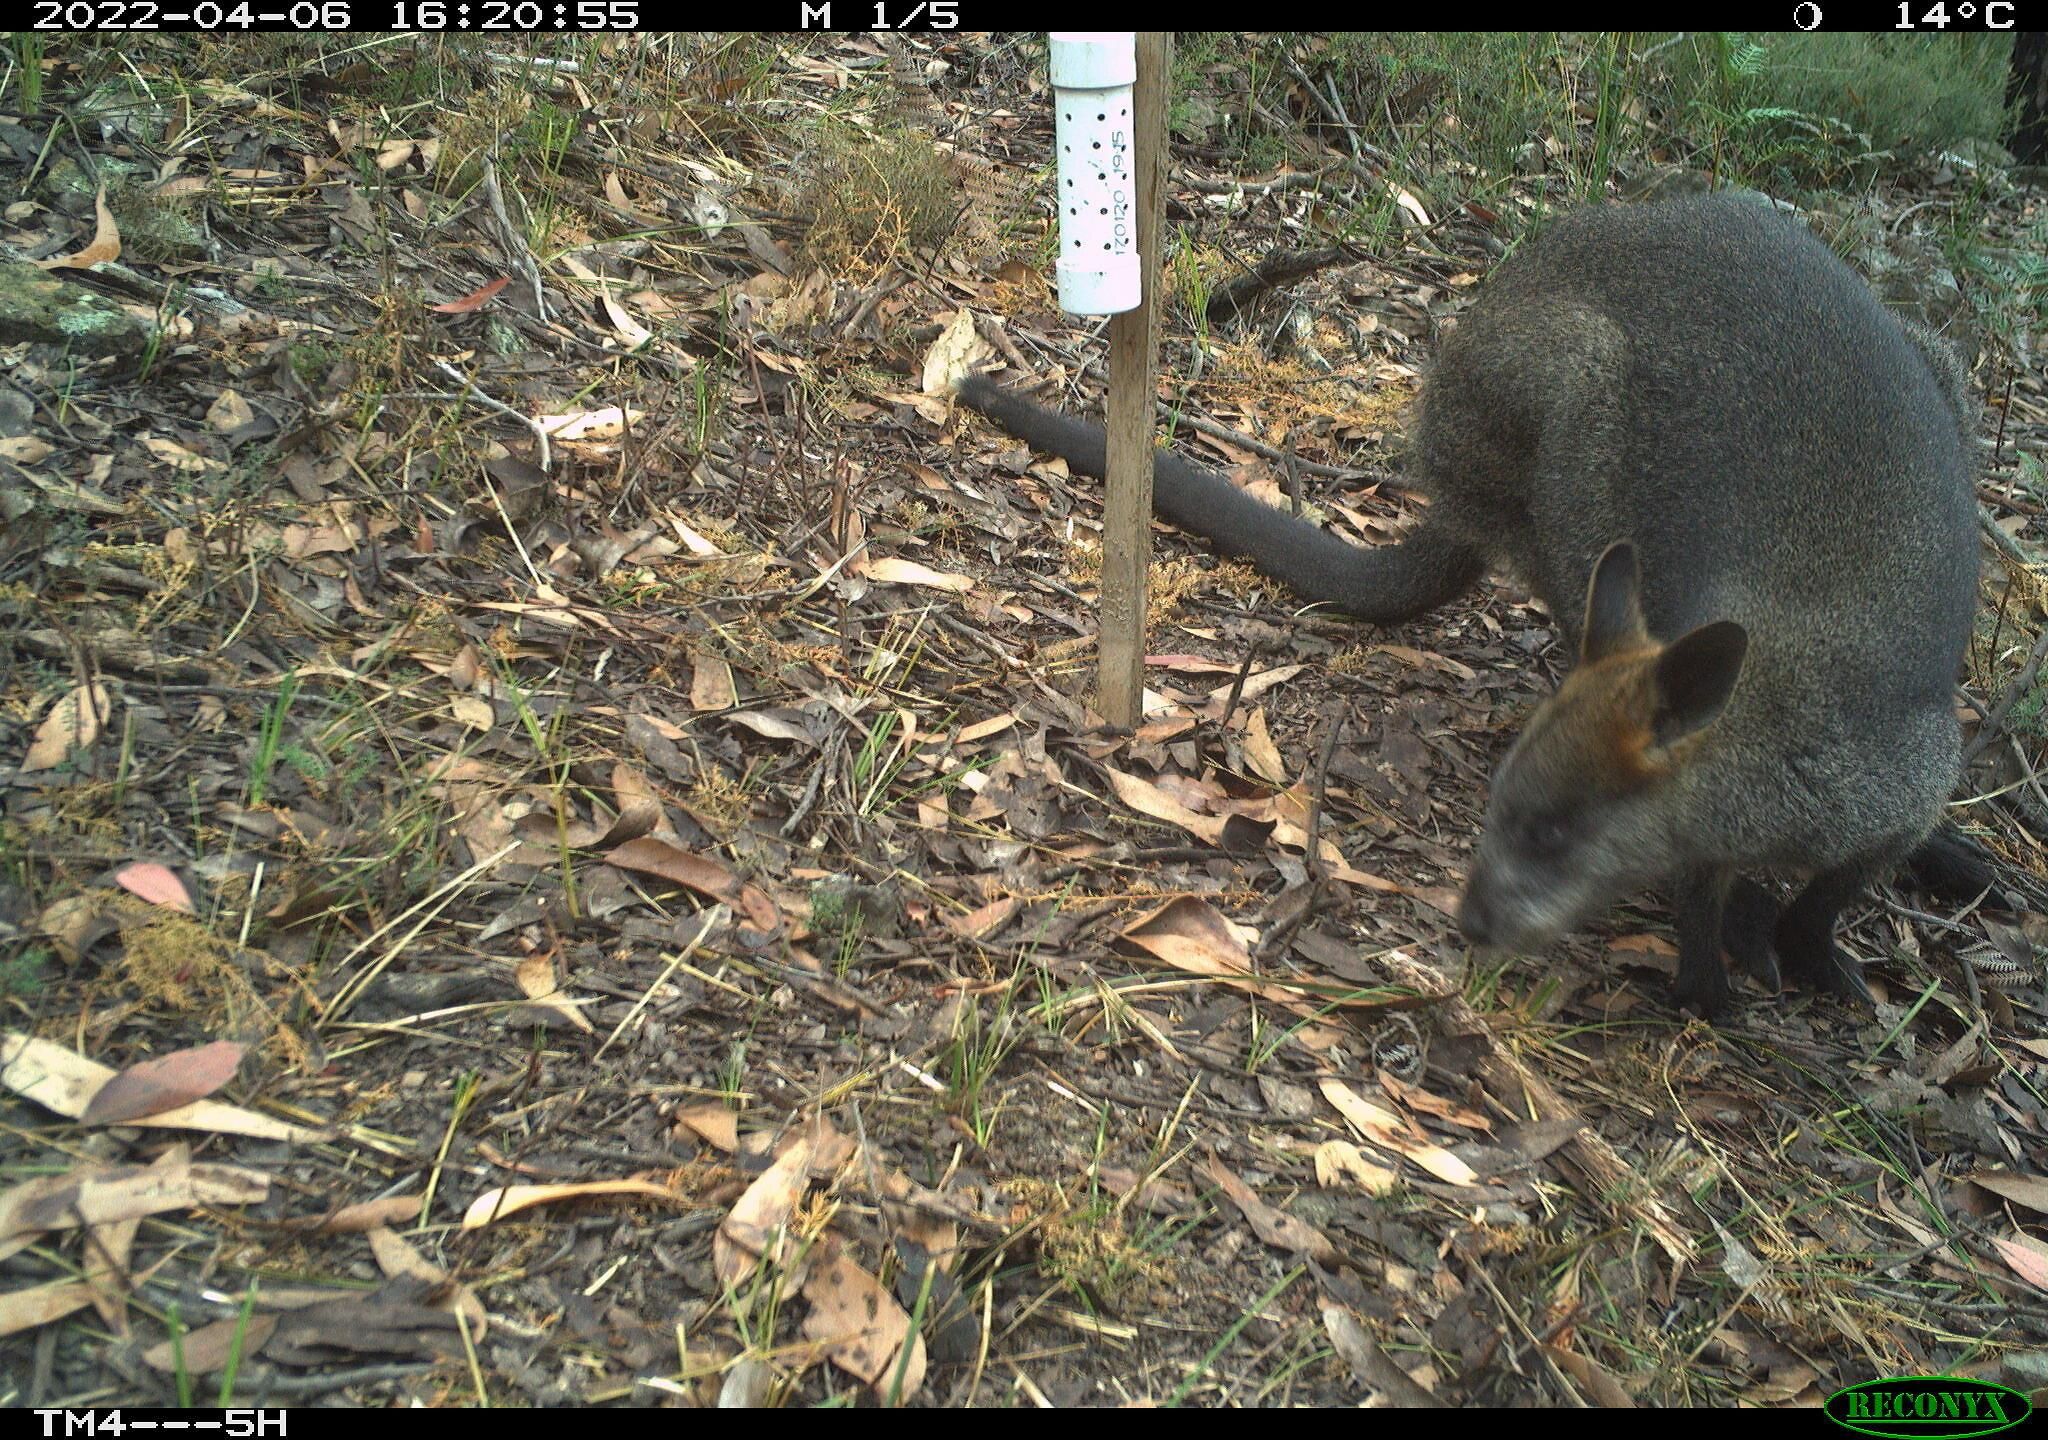Swamp wallaby: (1102, 176, 2048, 1039)
